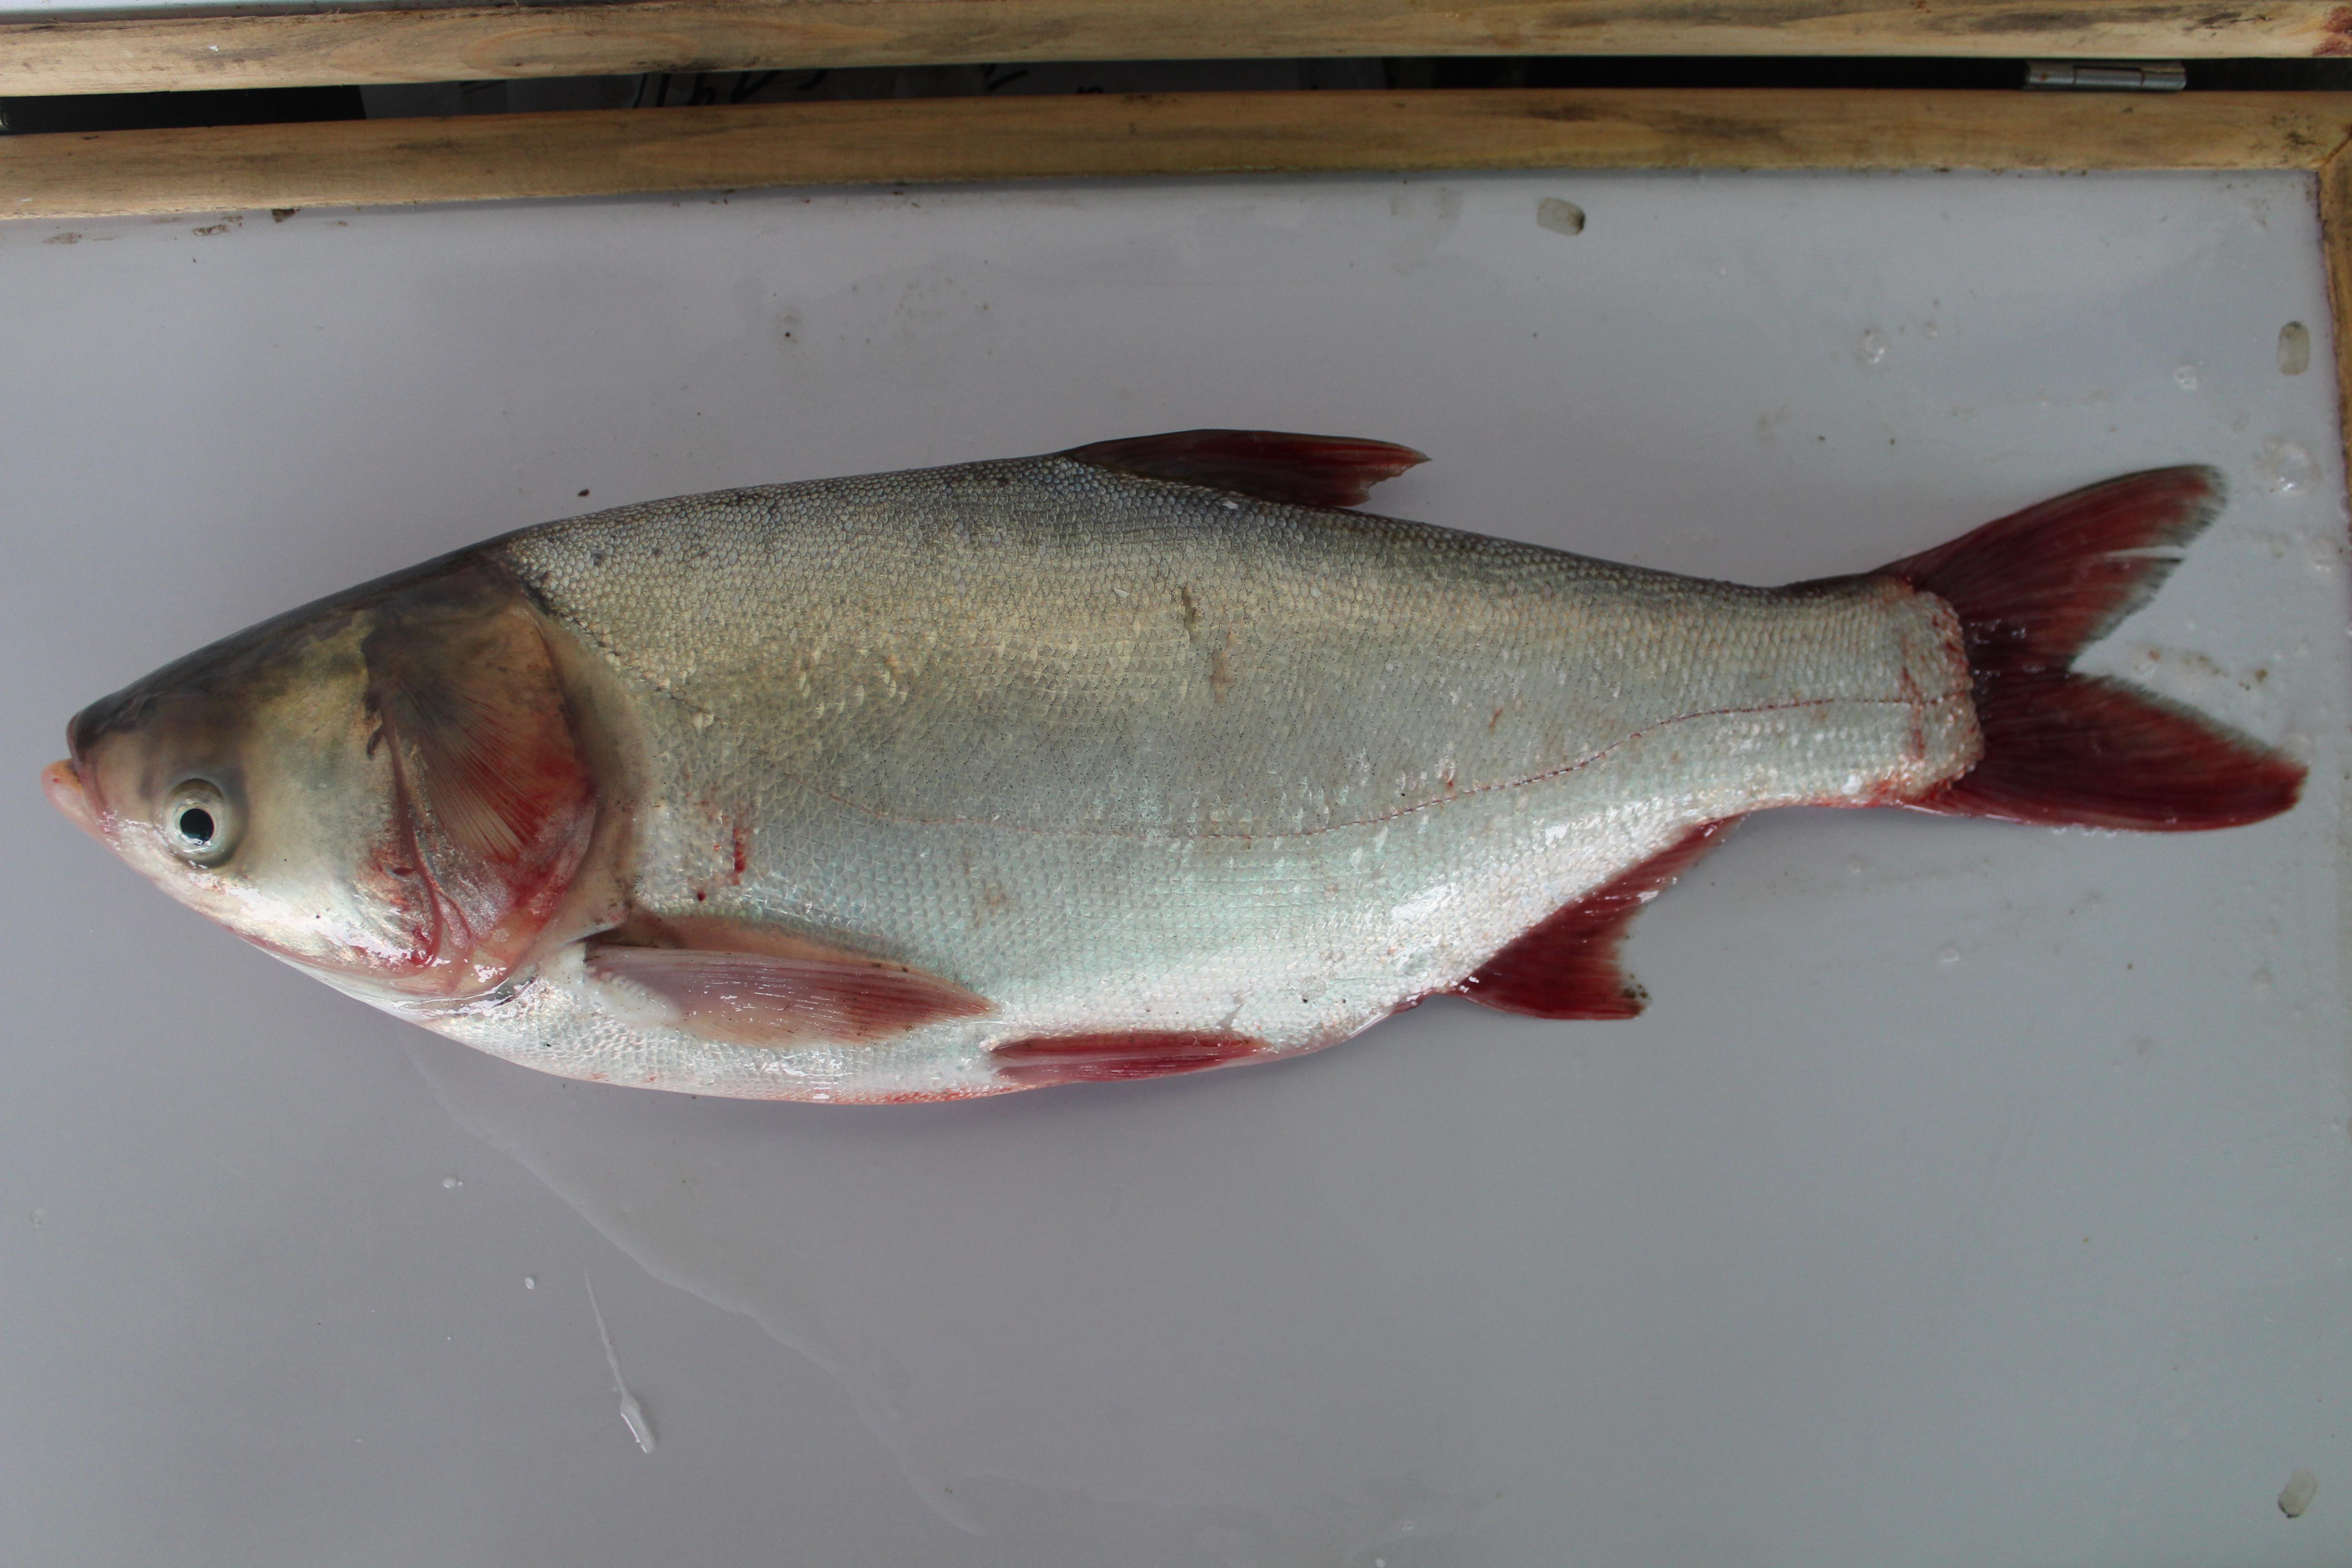Silver Carp: (51, 418, 2291, 1120)
